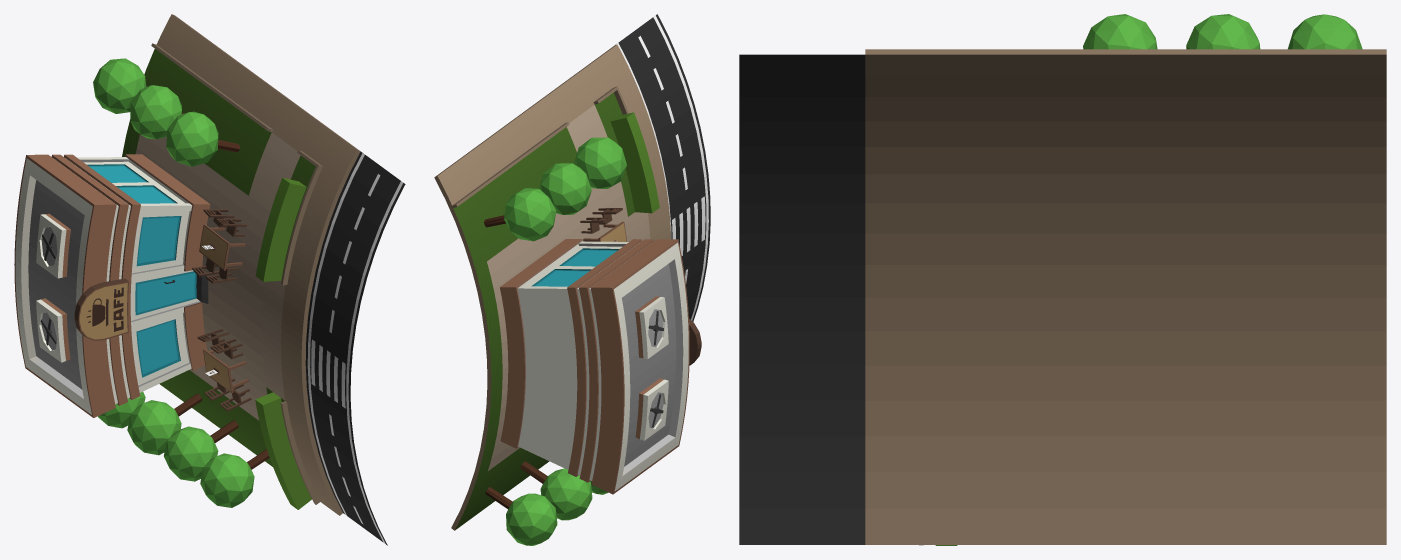
The model's file is cafe_opt.glb.
3 renders of one model, left to right at view 1: azimuth 30°, elevation 25°; view 2: azimuth 150°, elevation 25°; view 3: azimuth 270°, elevation 25°, orthographic. The views are drawn at different scales.
Bounding box in the file's own units: 63.63 × 123 × 136.
Materials: 1 (1 with a texture image).
